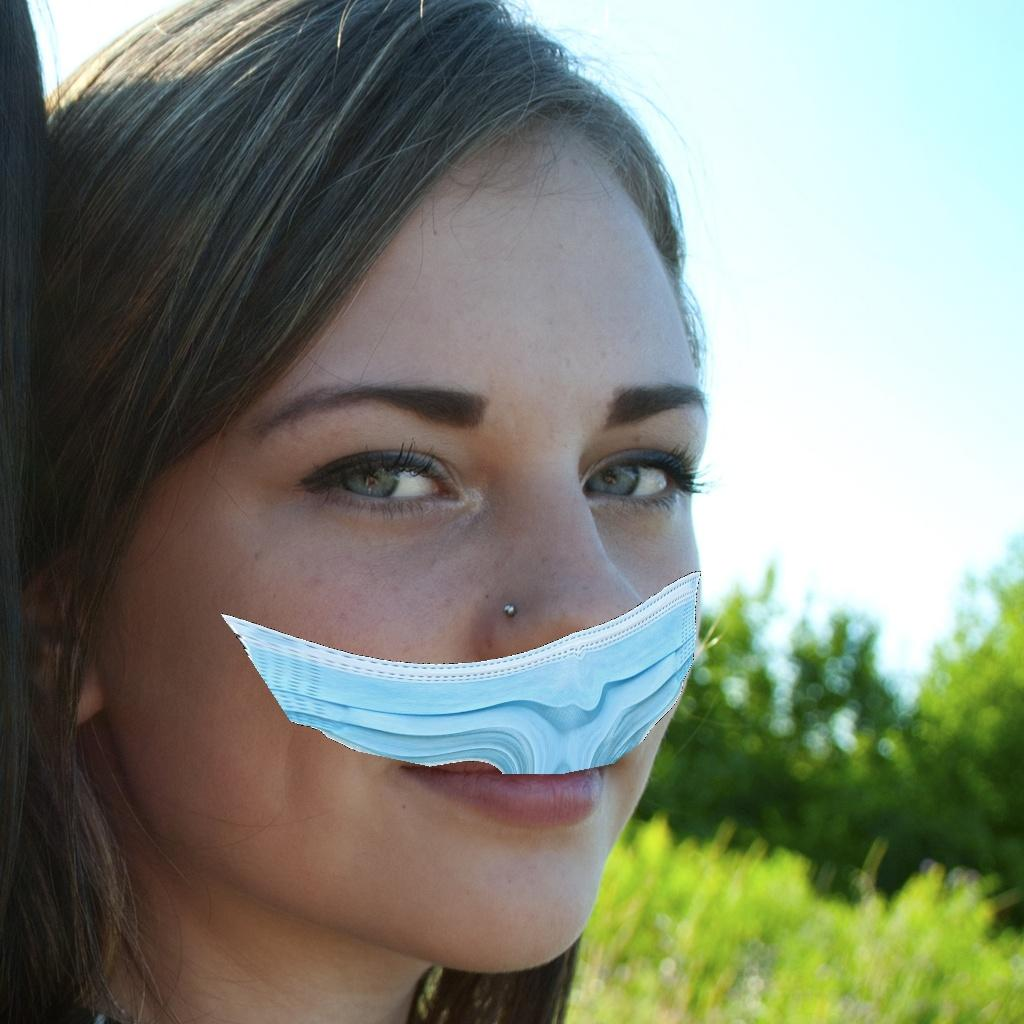Máscara Incorreta: (53, 108, 746, 982)
